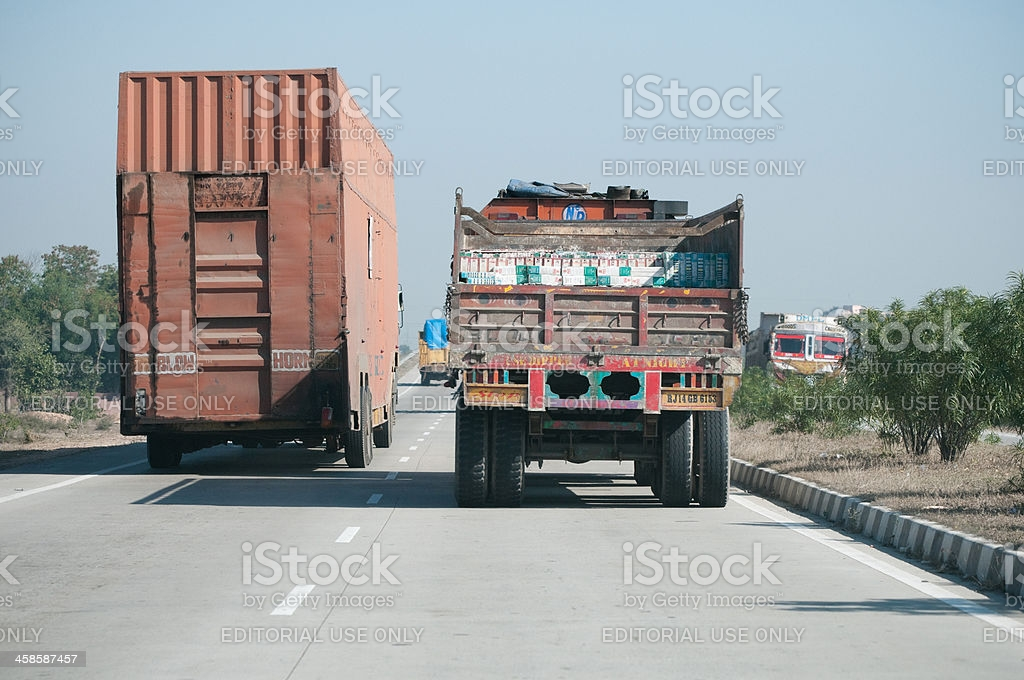truck: (115, 70, 397, 471), (452, 186, 743, 513), (753, 314, 852, 398), (417, 318, 455, 391)
